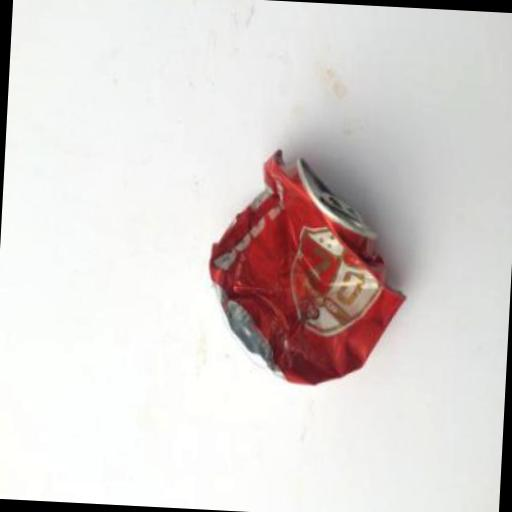metal: (202, 143, 415, 392)
